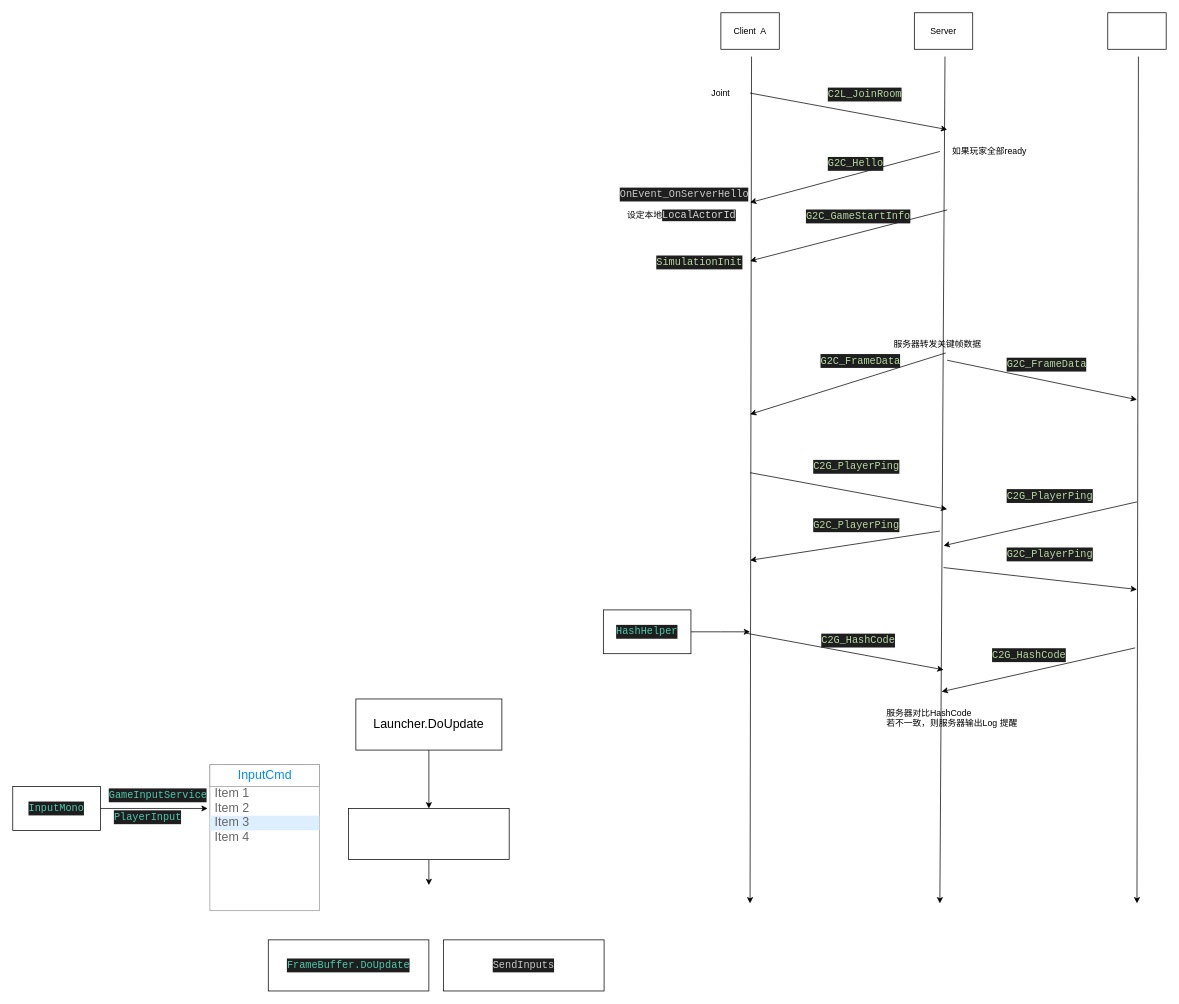
The diagram is 1179 pixels wide and 1004 high, and some of its shapes have lost their labels. The shapes that lost their labels are listed below. From the top down, each one's centre as x and y in pixels, then its label:
(x=1136, y=30): Client B
(x=428, y=834): SimulatorService.DoUpdate
